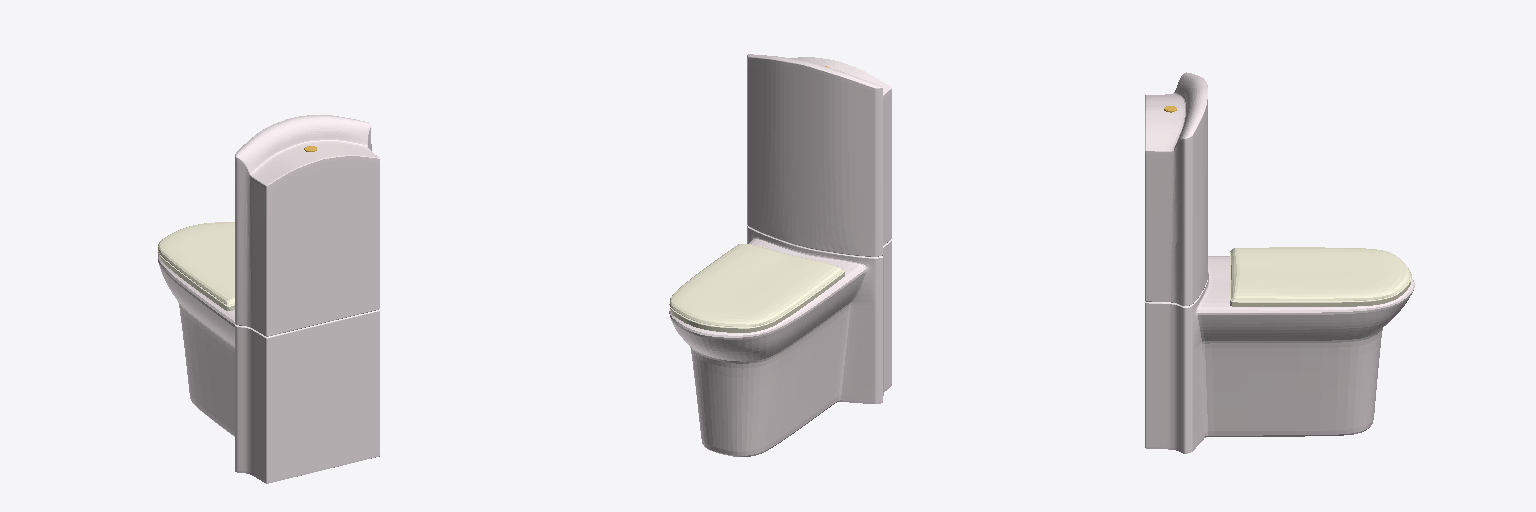
3 views of the same model, side by side, from view 1: azimuth 30°, elevation 25°; view 2: azimuth 150°, elevation 25°; view 3: azimuth 270°, elevation 25° (orthographic).
Parts seen in each view (by area): view 1: body, lid; view 2: body, lid; view 3: body, lid.
Boxes of the visible parts, x1=… form: body: x1=158, y1=115, x2=379, y2=483; lid: x1=158, y1=222, x2=234, y2=310; body: x1=669, y1=54, x2=891, y2=456; lid: x1=669, y1=244, x2=844, y2=332; body: x1=1145, y1=72, x2=1414, y2=453; lid: x1=1230, y1=247, x2=1411, y2=306.
Size of the model in its own units: 133707 by 310909 by 230420.